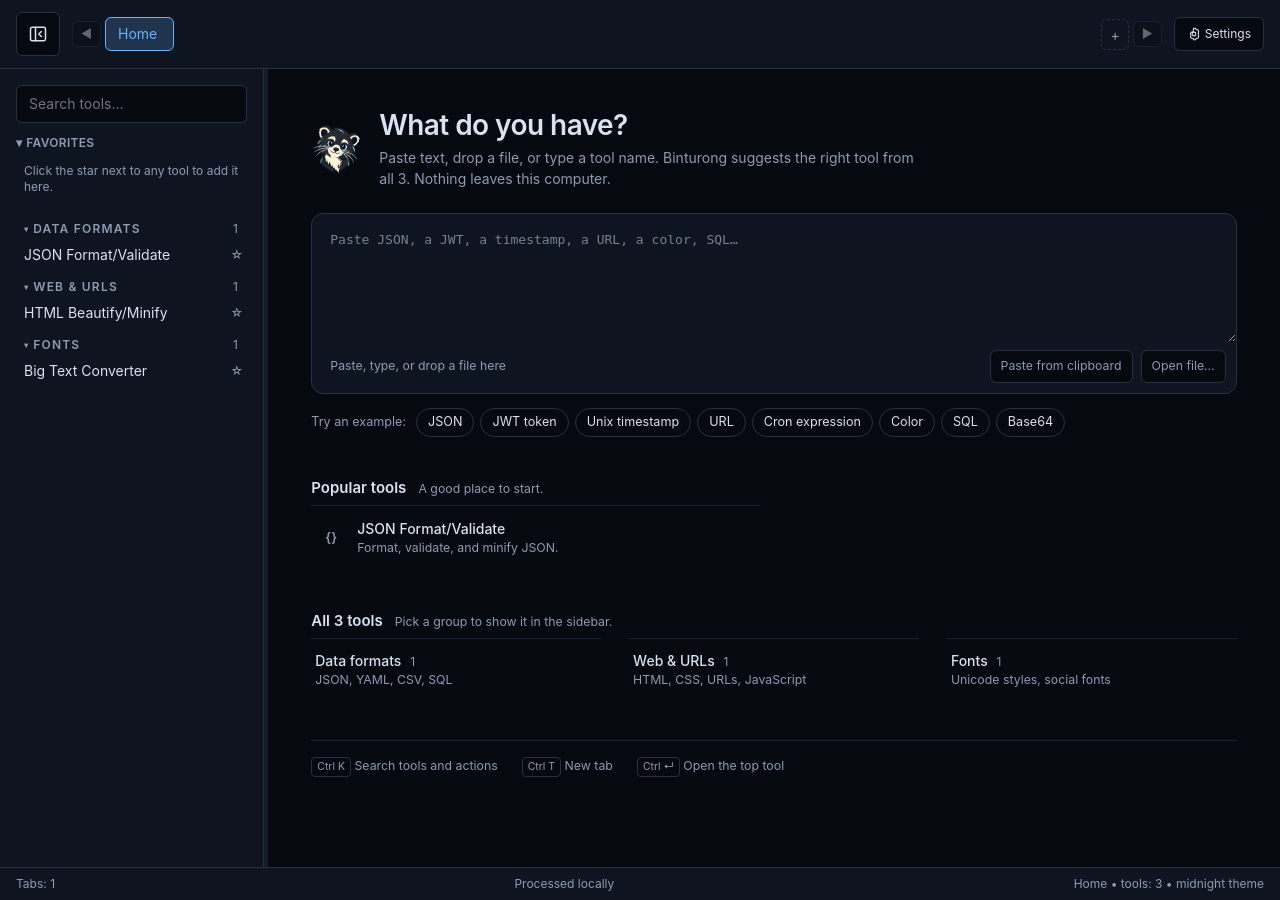
it: App UI › reveals the hidden menu and focuses search with ctrlKey+F
Expected: the heading "What do you have?" is shown, [379,108,628,142]
Click the button "JSON Format/Validate": (119, 255) [16,241,222,269]
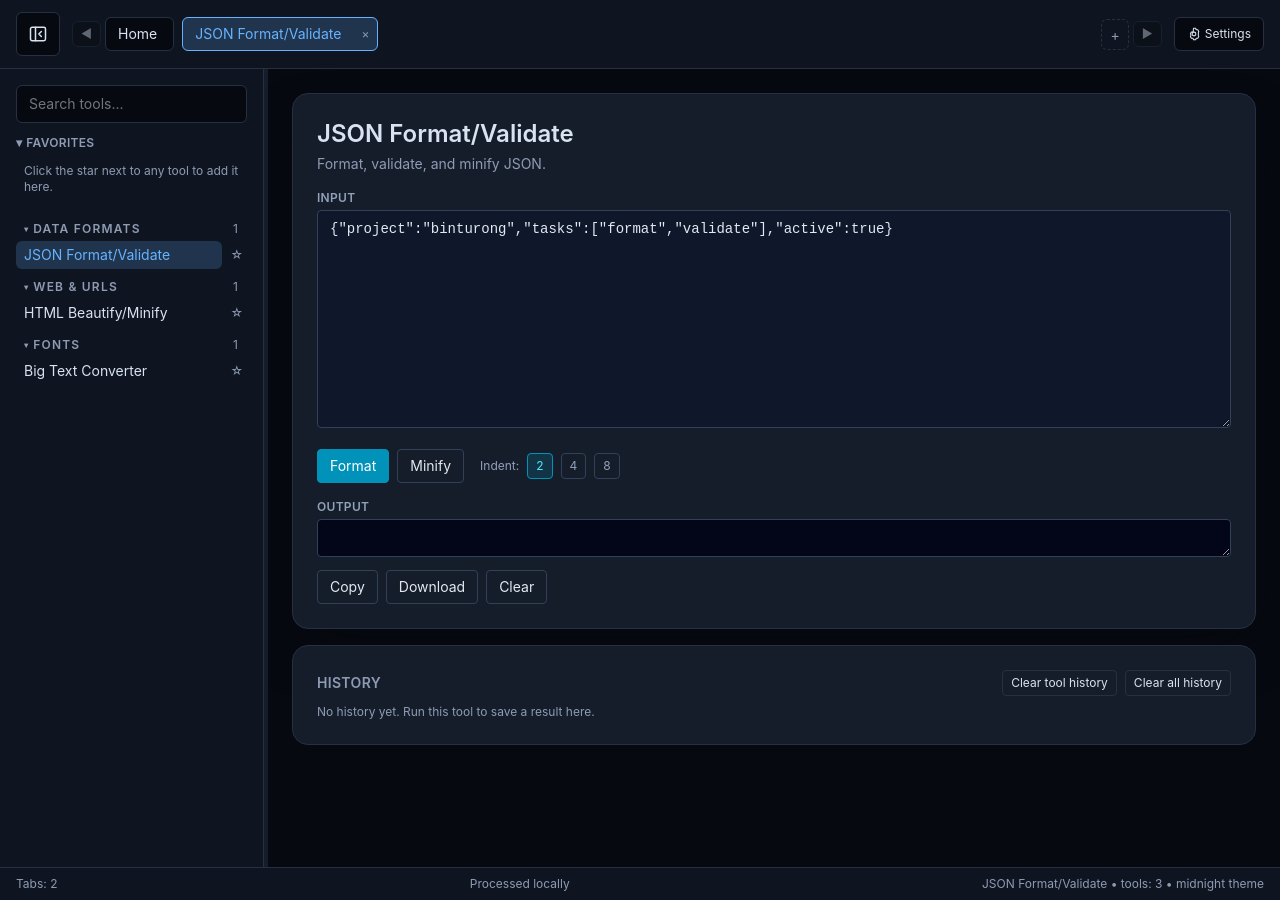
Now the heading "JSON Format/Validate" is shown, box [317,119,574,148]
Click the button named "Hide main menu": (38, 34) [16,12,60,56]
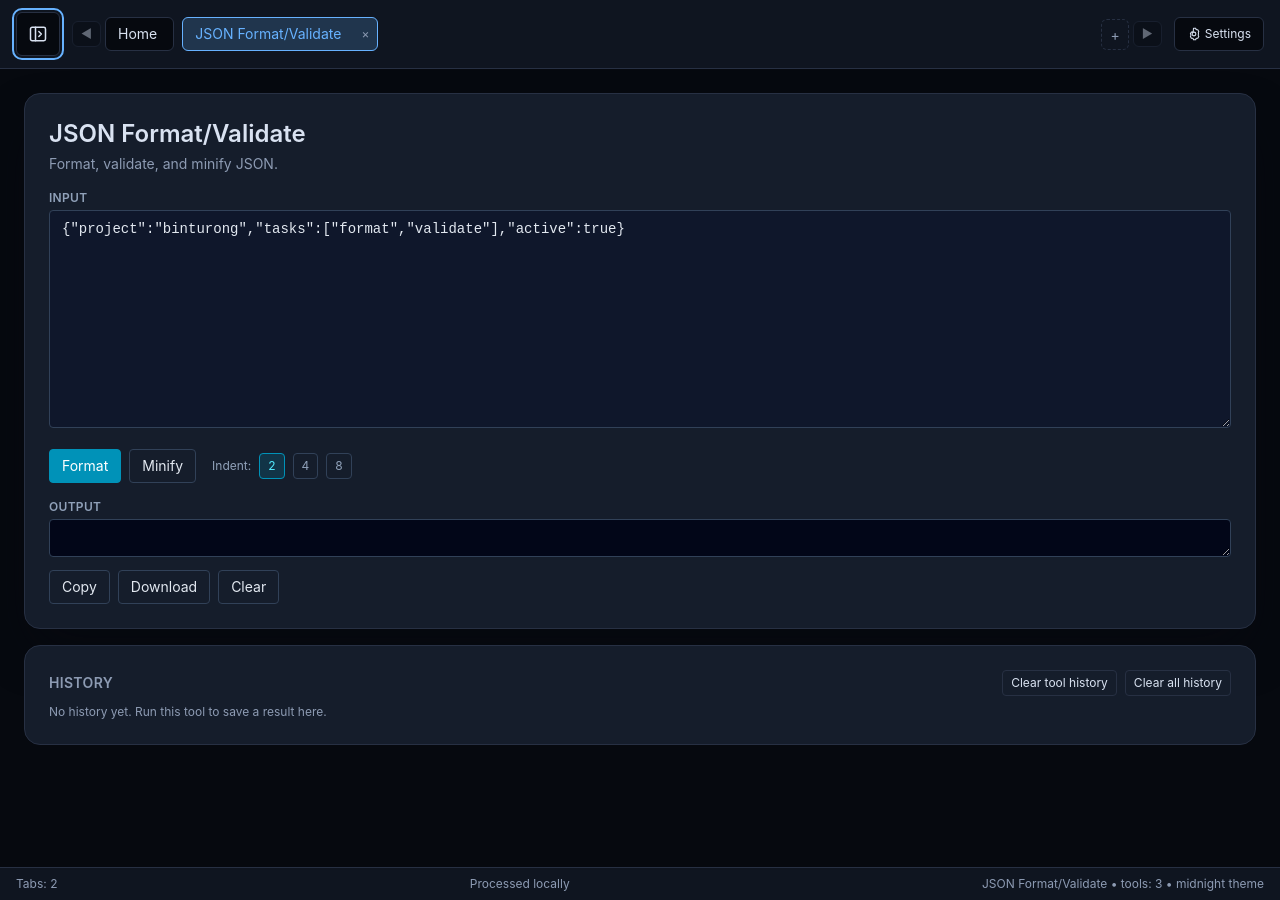
Press f
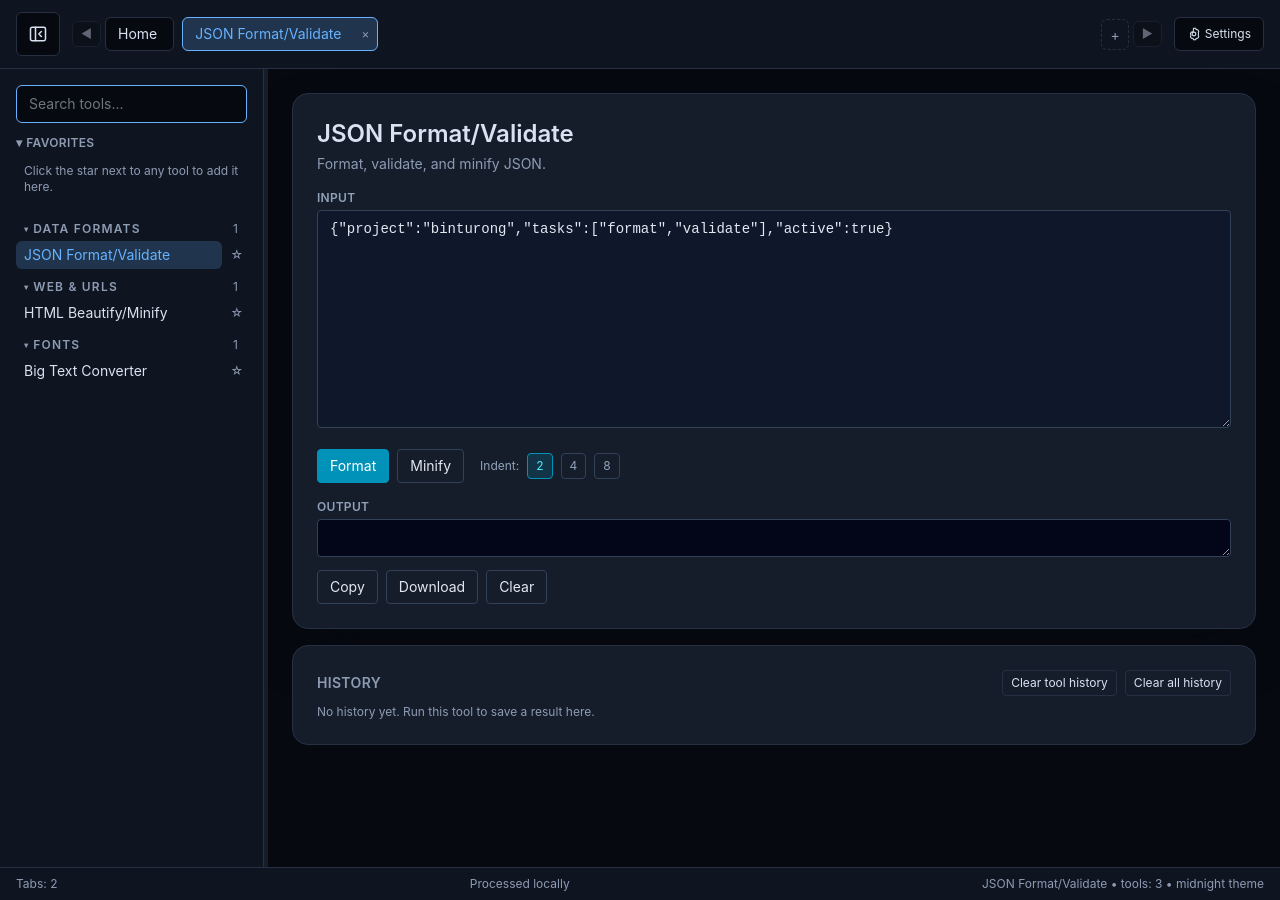
Now the element named "Main menu" is shown, box [0,69,264,867]
